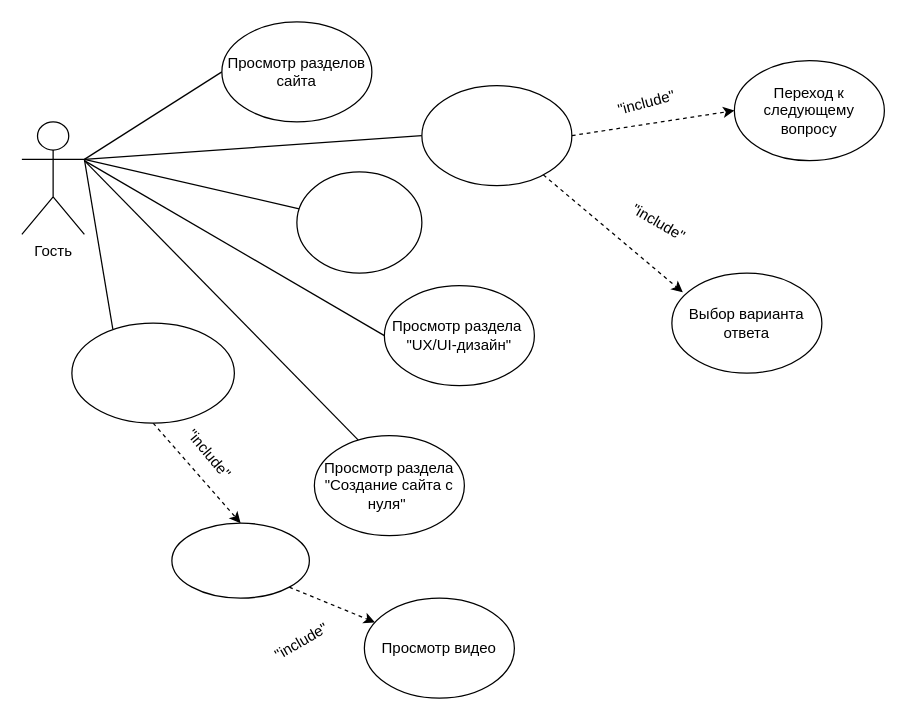
Some shapes in this 906 by 720 pixel diagram are drawn without their labels. Here are the shapes that lost their labels. From the top down, the centre of each, then its label:
the point at 496,135: Похождение викторины
the point at 359,222: Просмотр социальный сетей
the point at 152,372: Просмотр раздела 'Видеоуроки"
the point at 240,560: Выбор видео
